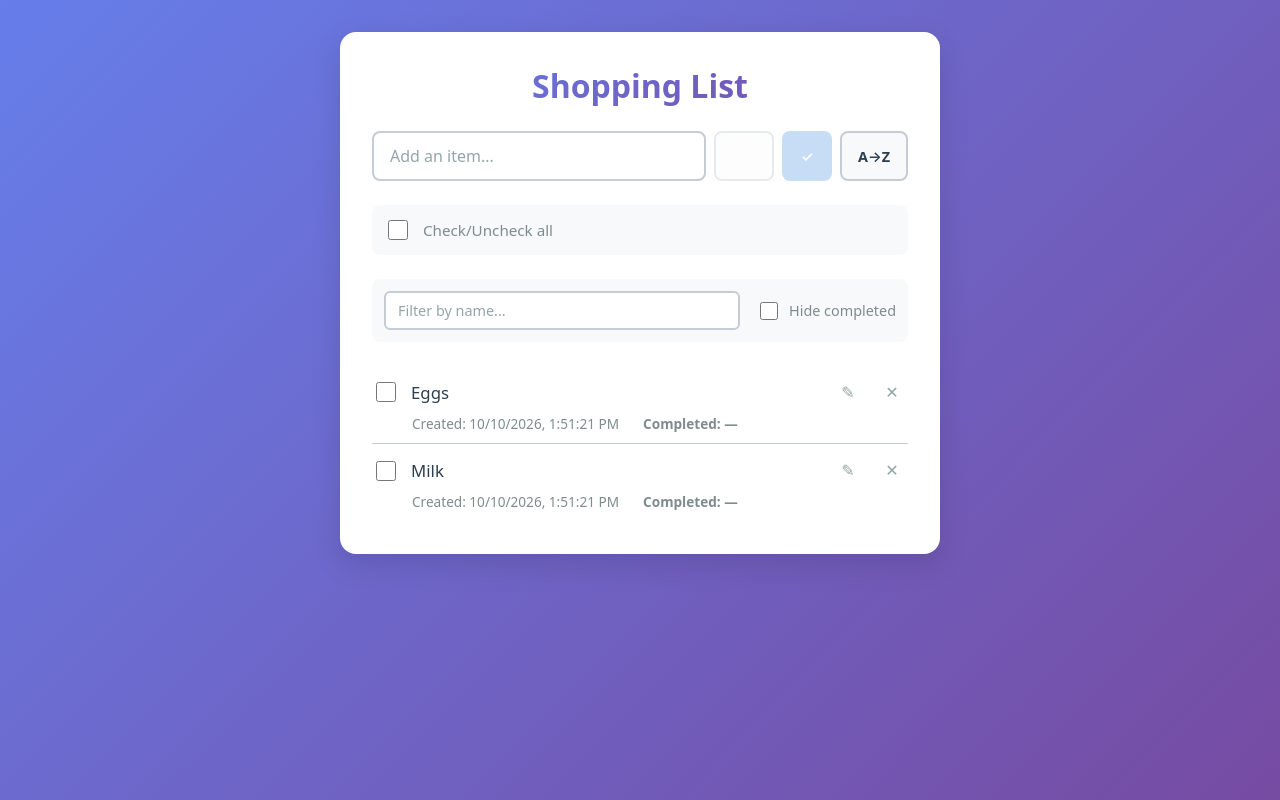
Test: App › checks all items when clicking toggle all
The image size is (1280, 800).
Expected: the checkbox next to "Eggs" is not checked, [376, 382, 396, 402]
Expected: the checkbox next to "Milk" is not checked, [376, 461, 396, 481]
Click the checkbox labelled "Check/Uncheck all".
click(398, 230)  # box [388, 220, 408, 240]
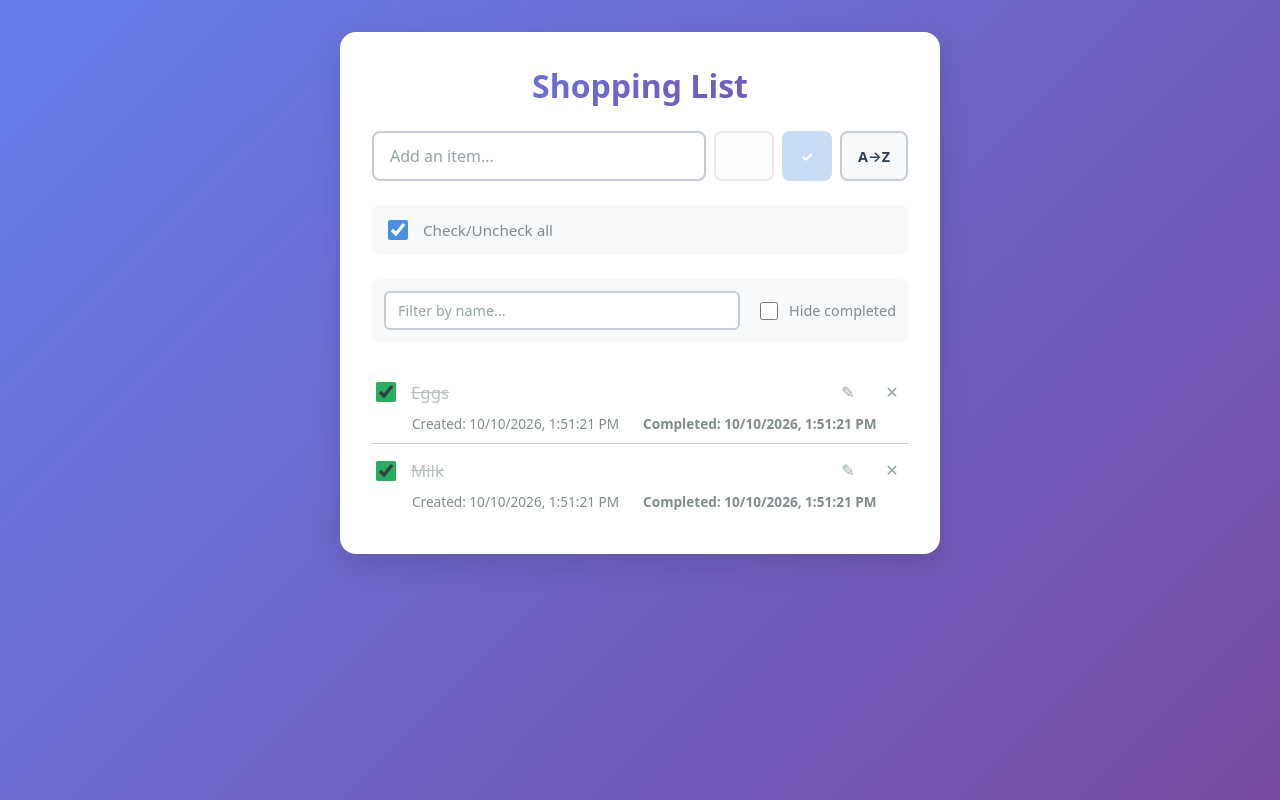
Now the checkbox next to "Eggs" is checked, box [376, 382, 396, 402]
Now the checkbox next to "Milk" is checked, box [376, 461, 396, 481]
Click the checkbox labelled "Check/Uncheck all".
click(398, 230)  # box [388, 220, 408, 240]
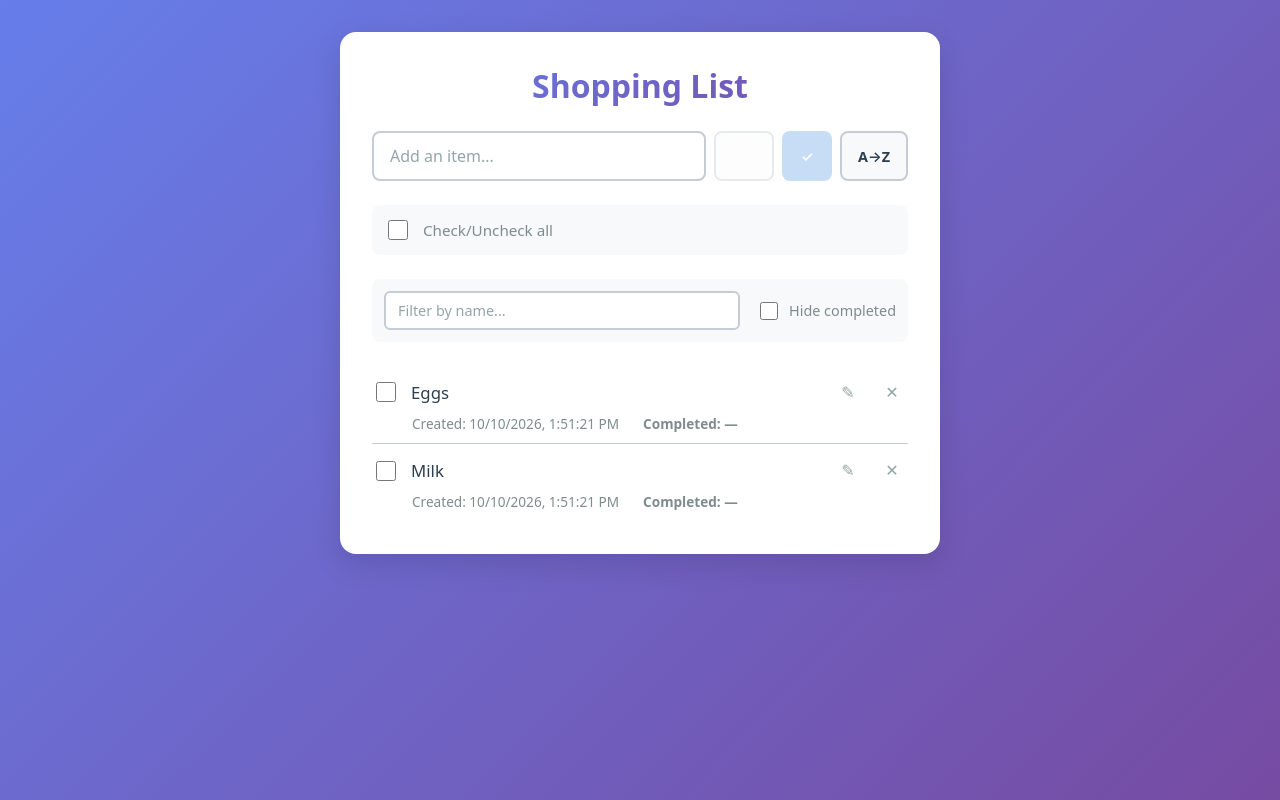
Now the checkbox next to "Eggs" is not checked, box [376, 382, 396, 402]
Now the checkbox next to "Milk" is not checked, box [376, 461, 396, 481]
